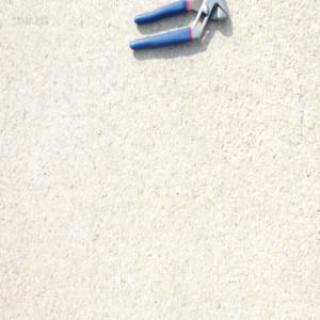Pliertrack_idkeyframe: (127, 0, 227, 52)
